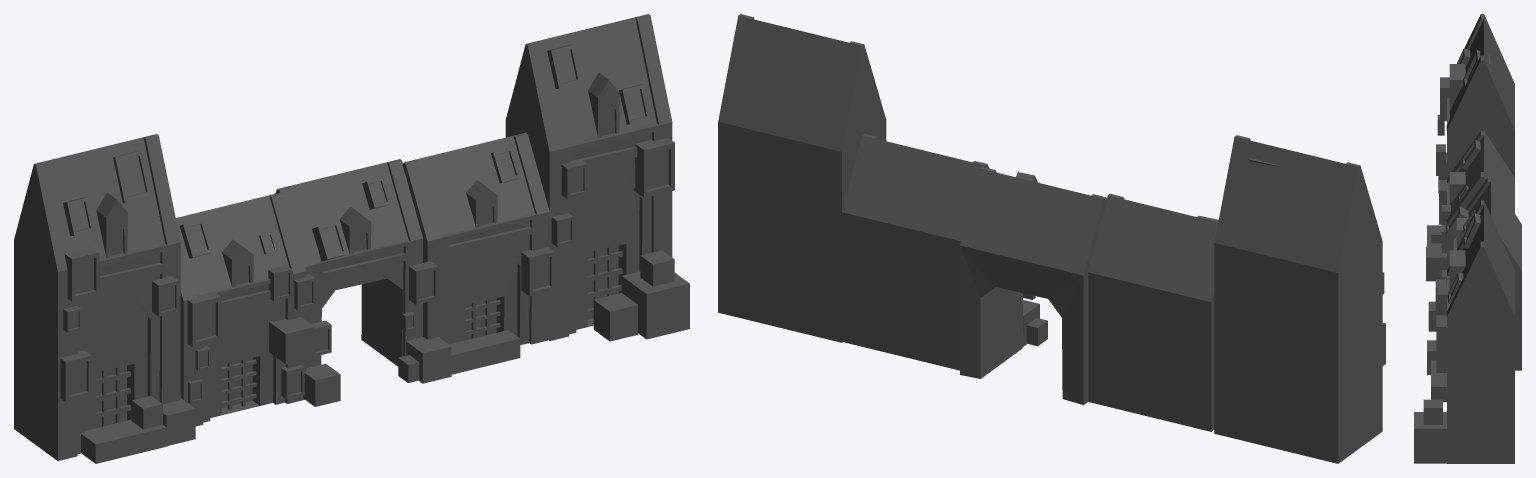
The model's file is bossfiledfront.obj.
3 views of the same model, side by side, from view 1: azimuth 30°, elevation 25°; view 2: azimuth 150°, elevation 25°; view 3: azimuth 270°, elevation 25° (orthographic). The views are drawn at different scales.
Visible parts, largest first — view 1: 立方体.003_立方体.006; view 2: 立方体.003_立方体.006; view 3: 立方体.003_立方体.006.
Boxes of the visible parts, <box> form: 立方体.003_立方体.006: <box>14,14,689,463</box>; 立方体.003_立方体.006: <box>718,14,1385,463</box>; 立方体.003_立方体.006: <box>1414,14,1521,463</box>.
Size of the model in its own units: 29.36 by 12.9 by 5.75.
Materials: 1 (1 with a texture image).
